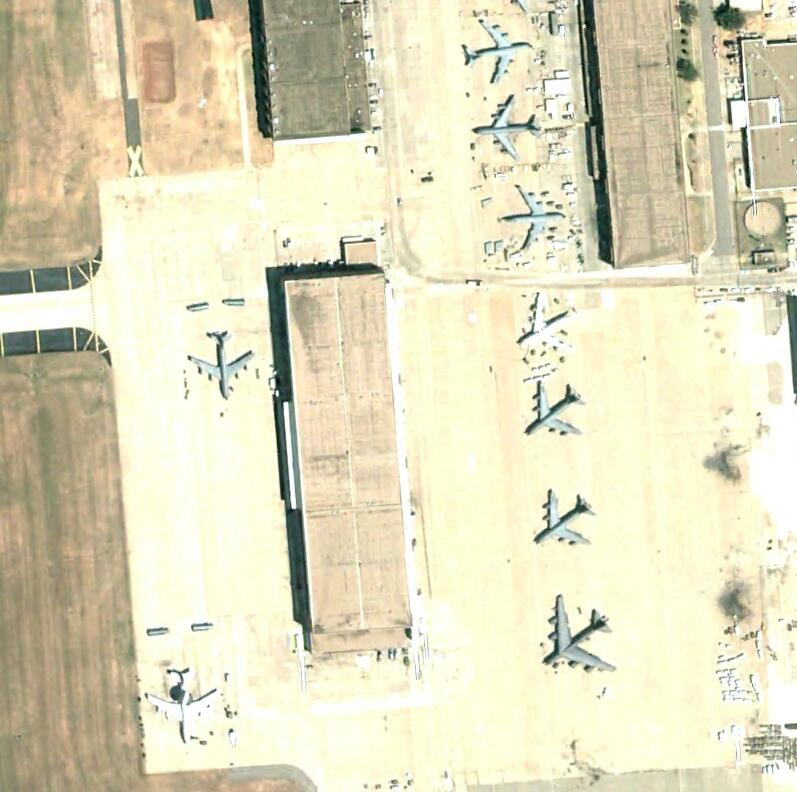A14: (189, 330, 258, 399), (472, 93, 541, 161), (462, 20, 533, 85), (524, 381, 585, 442), (534, 491, 597, 548)
A7: (145, 666, 223, 745)
A8: (541, 594, 618, 676)
